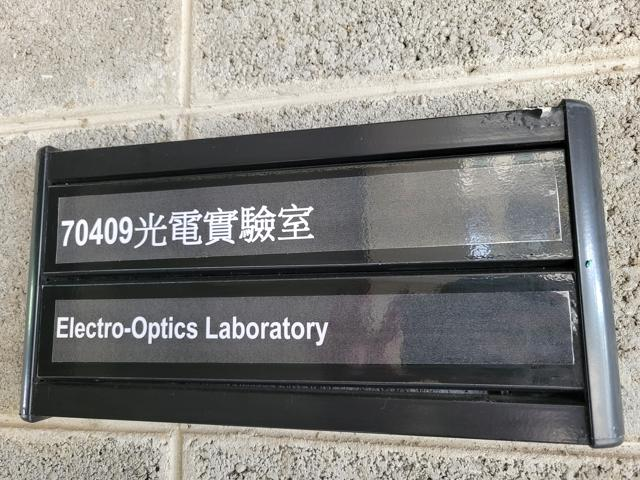doorplate: (18, 90, 625, 452)
